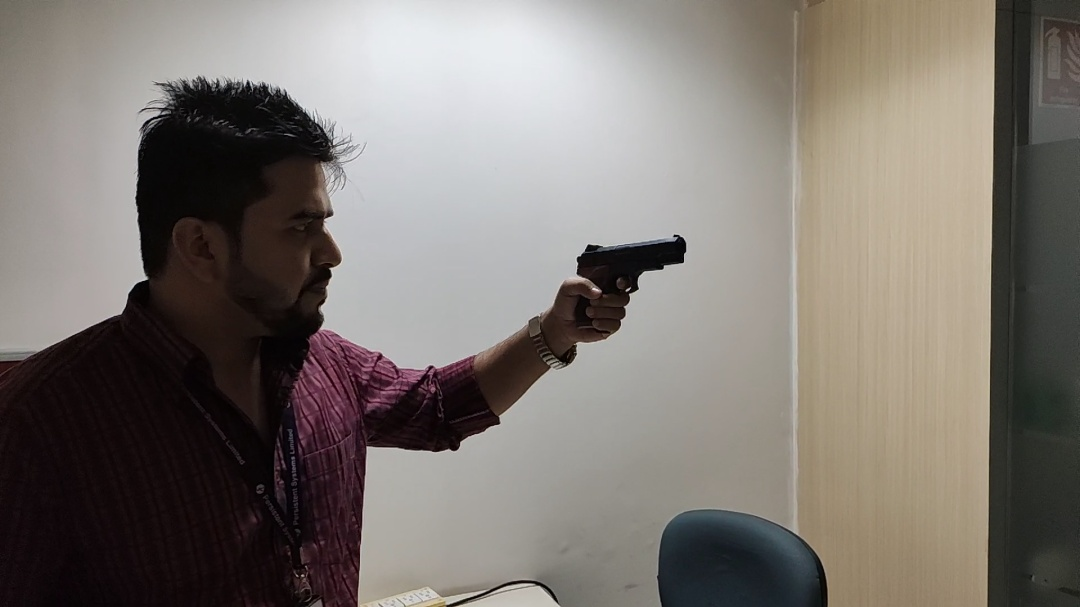gun: (569, 230, 692, 346)
